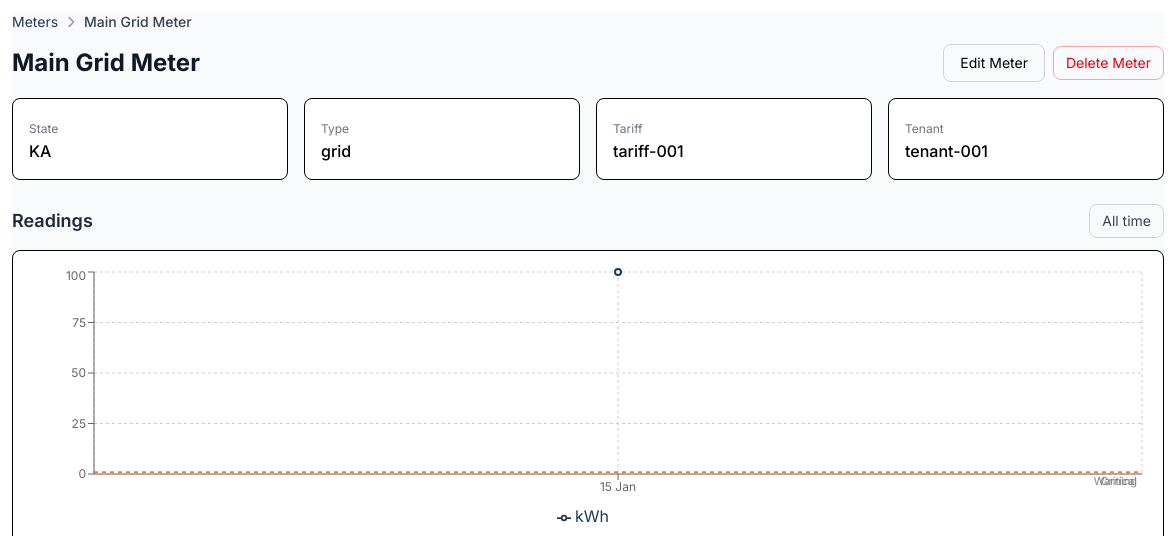
Test: MeterDetail page › hides edit form when Cancel is clicked
Expected: the heading "Main Grid Meter" is shown, top-left (12, 47), bottom-right (200, 79)
What coordinates should you click on to do the following:
click the button "Edit Meter"
I would click on:
 (994, 63)
Its box is top-left (943, 44), bottom-right (1045, 82).
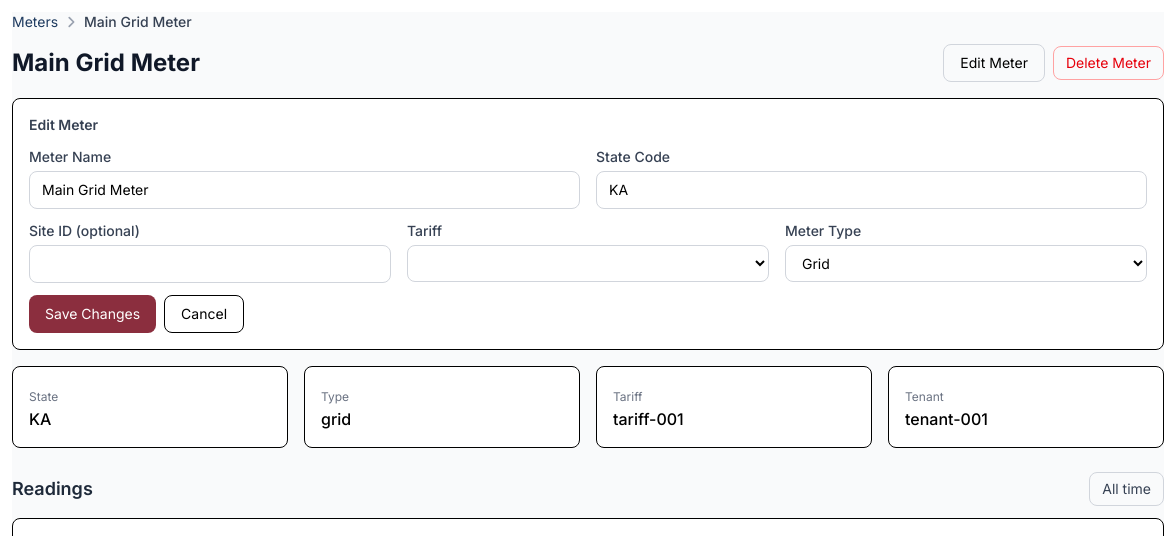
Expected: the button "Save Changes" is shown, top-left (29, 295), bottom-right (156, 333)
What coordinates should you click on to do the following:
click the button "Cancel"
I would click on:
 (204, 314)
Its box is top-left (164, 295), bottom-right (244, 333).
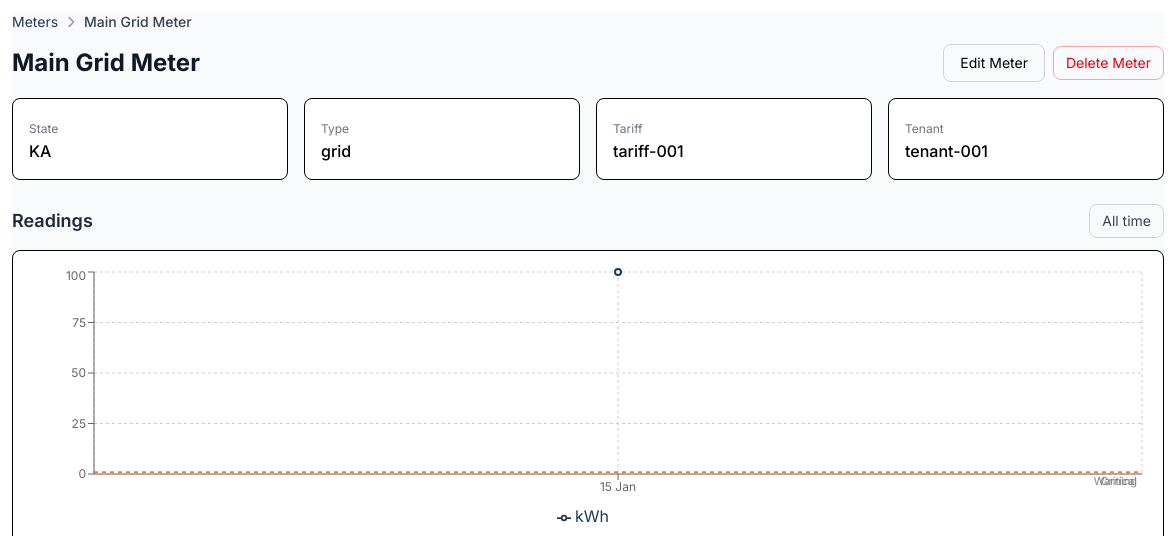
Expected: the button "Save Changes" is gone
